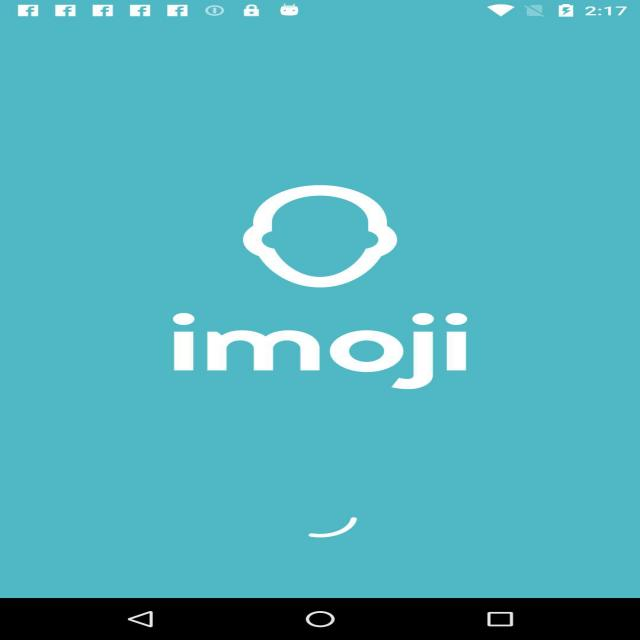image: (223, 178, 425, 302), (304, 510, 382, 554)
text: (138, 302, 496, 396)
